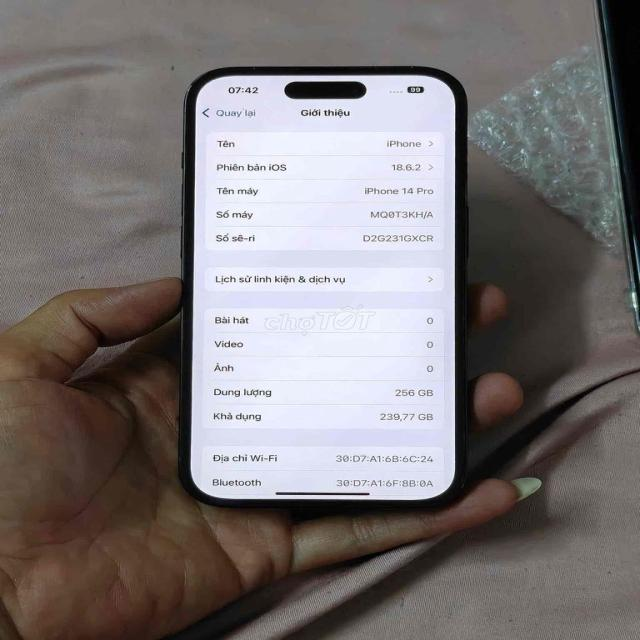gen_14: (166, 59, 472, 513)
